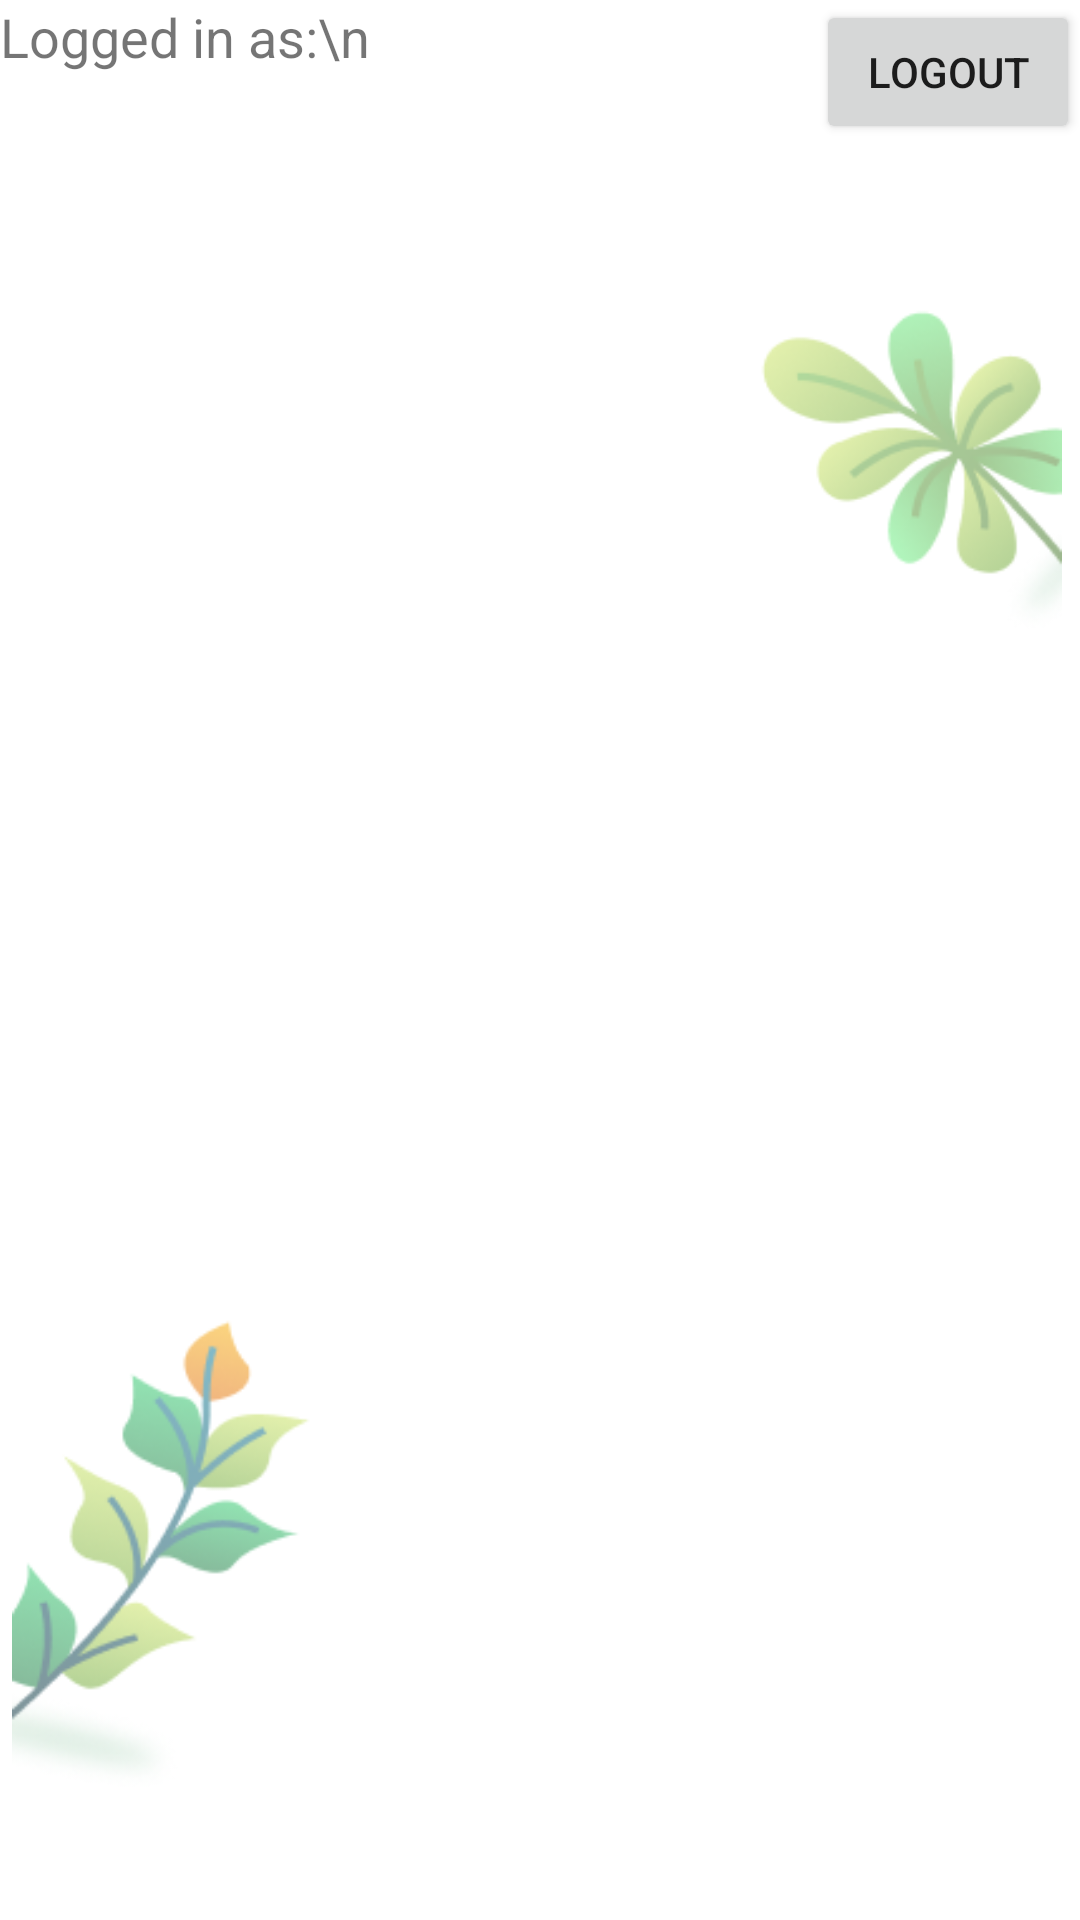

Named icons in this screenshot (1080px x 1920px) and their bounding boxes, (left=x1, top=y1, right=x2, bottom=y2):
Top Right Decoration: (left=763, top=313, right=1062, bottom=574)
